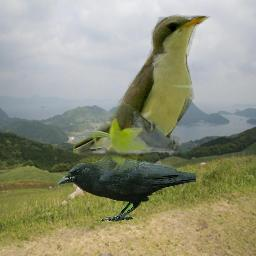Crow: (57, 158, 196, 223)
Cuckoo: (73, 11, 211, 174)
